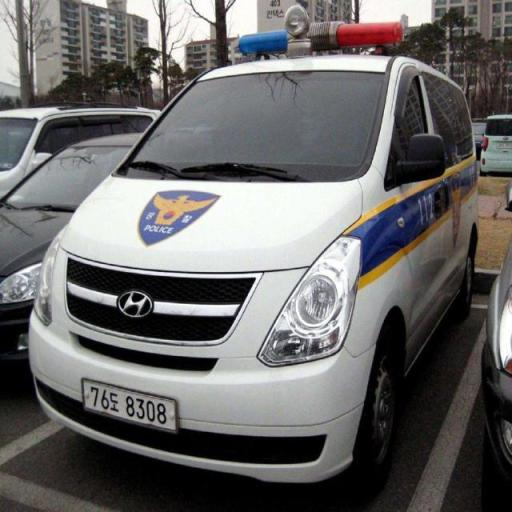Ambulance: (25, 20, 479, 488)
